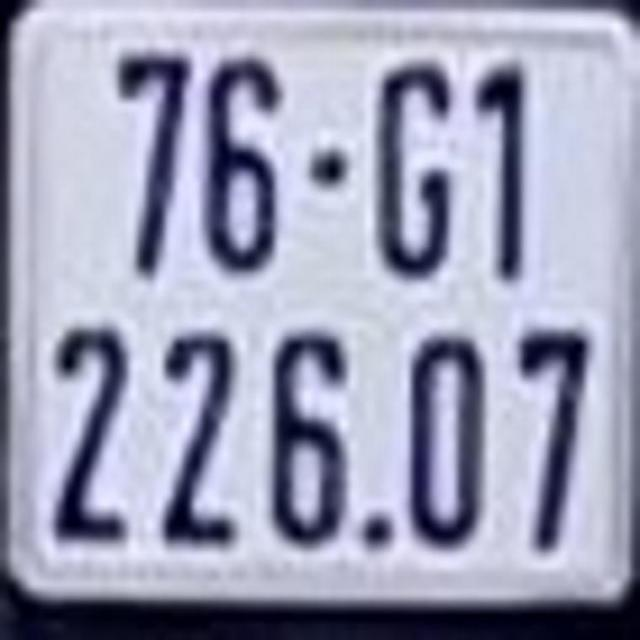0: (407, 331, 482, 544)
1: (477, 69, 527, 282)
2: (49, 328, 130, 536), (160, 331, 238, 544)
6: (272, 329, 352, 546), (204, 54, 284, 268)
7: (512, 322, 587, 559), (122, 48, 184, 266)
G: (380, 62, 456, 276)
